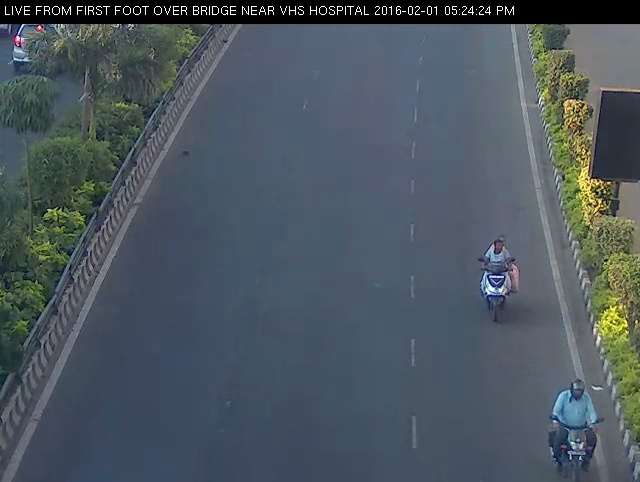Person: (535, 374, 614, 482), (467, 224, 527, 329)
